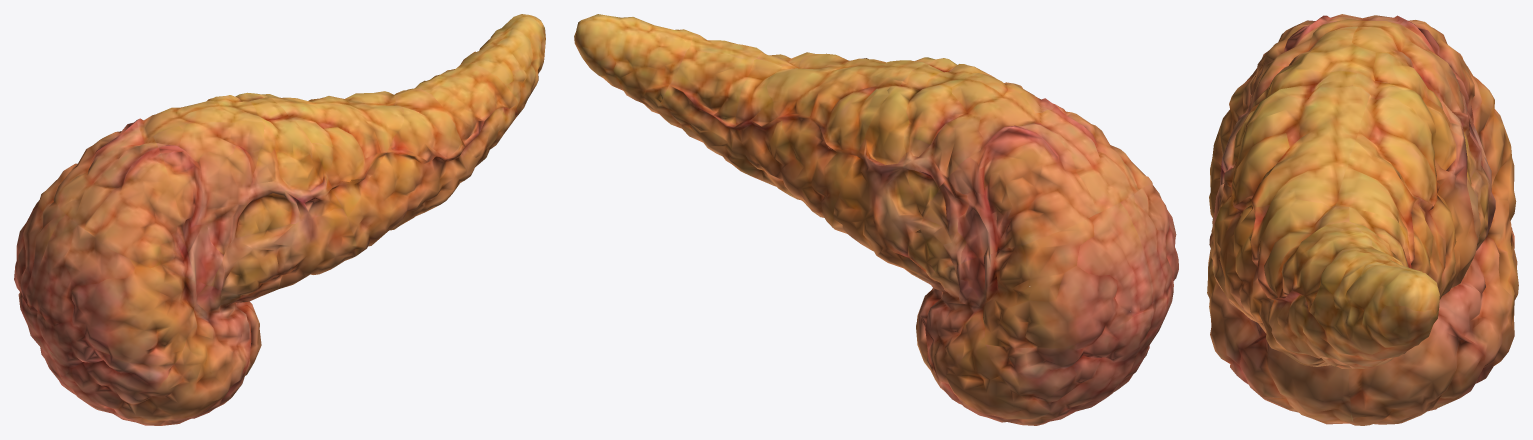
File: pancreas-lod2.glb
The picture shows the model from 3 angles, left to right: view 1: azimuth 30°, elevation 25°; view 2: azimuth 150°, elevation 25°; view 3: azimuth 270°, elevation 25°; orthographic projection. The views are drawn at different scales.
Visible parts, largest first — view 1: tripo_node_28f9ac4d-a7ee-4a69-acaa-c6201ef7be03; view 2: tripo_node_28f9ac4d-a7ee-4a69-acaa-c6201ef7be03; view 3: tripo_node_28f9ac4d-a7ee-4a69-acaa-c6201ef7be03.
Boxes of the visible parts, bbox=[...] form: tripo_node_28f9ac4d-a7ee-4a69-acaa-c6201ef7be03: bbox=[14, 14, 545, 425]; tripo_node_28f9ac4d-a7ee-4a69-acaa-c6201ef7be03: bbox=[574, 14, 1178, 425]; tripo_node_28f9ac4d-a7ee-4a69-acaa-c6201ef7be03: bbox=[1207, 14, 1518, 425].
Size of the model in its own units: 0.979 by 0.521 by 0.3602.
Materials: 1 (1 with a texture image).
